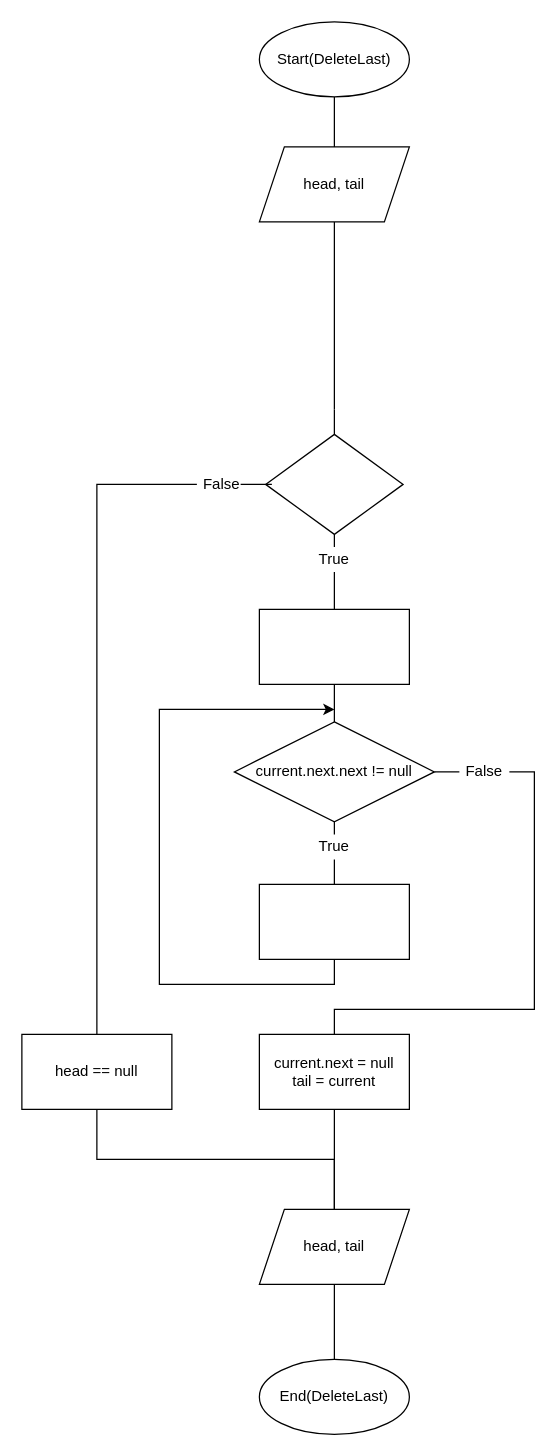
Image size: 558x1456. Some labels were removed from this diagram. Each missing label, with the box of its shape:
current = current.next: (258, 883, 409, 959)
current = head: (258, 608, 409, 684)
head.next != null: (264, 433, 403, 534)
